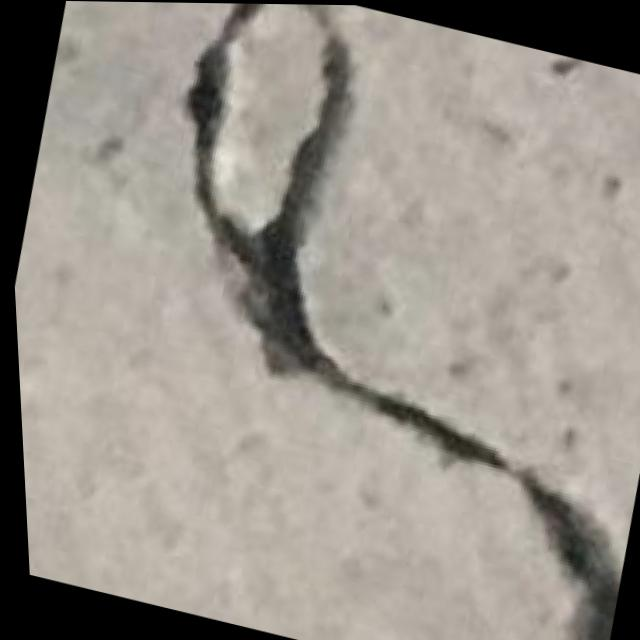Crack: (60, 1, 640, 640)
